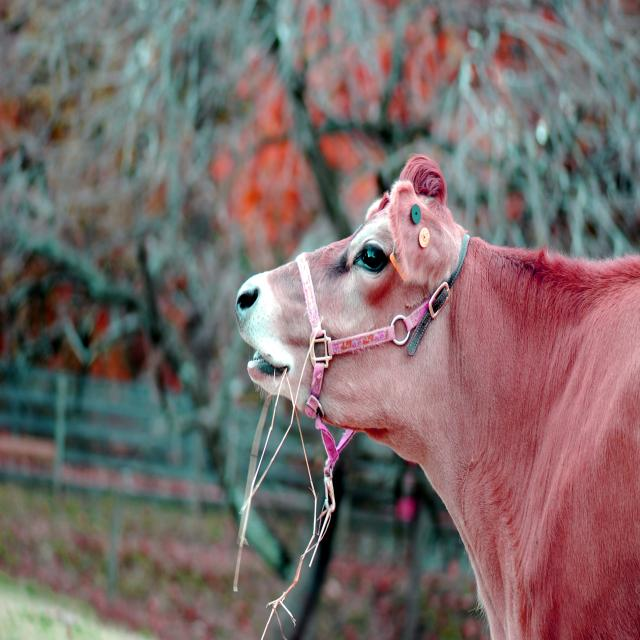cow: (236, 156, 640, 639)
